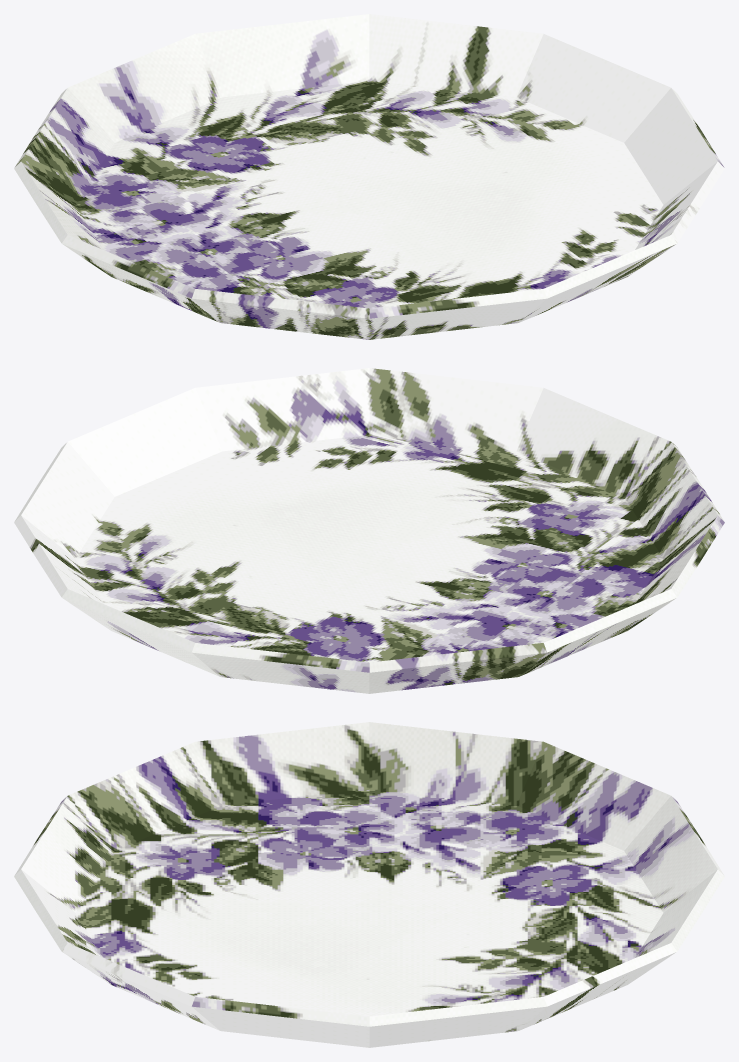
The model's file is PSX_Plate.glb.
3 views of the same model, one above another, from view 1: azimuth 30°, elevation 25°; view 2: azimuth 150°, elevation 25°; view 3: azimuth 270°, elevation 25° (orthographic).
Parts seen in each view (by area): view 1: Circle; view 2: Circle; view 3: Circle.
Boxes of the visible parts, x1=… form: Circle: x1=14, y1=14, x2=724, y2=339; Circle: x1=14, y1=368, x2=724, y2=693; Circle: x1=14, y1=722, x2=724, y2=1047.
Bounding box in the file's own units: 0.3329 × 0.0276 × 0.3329.
Materials: 1 (1 with a texture image).
